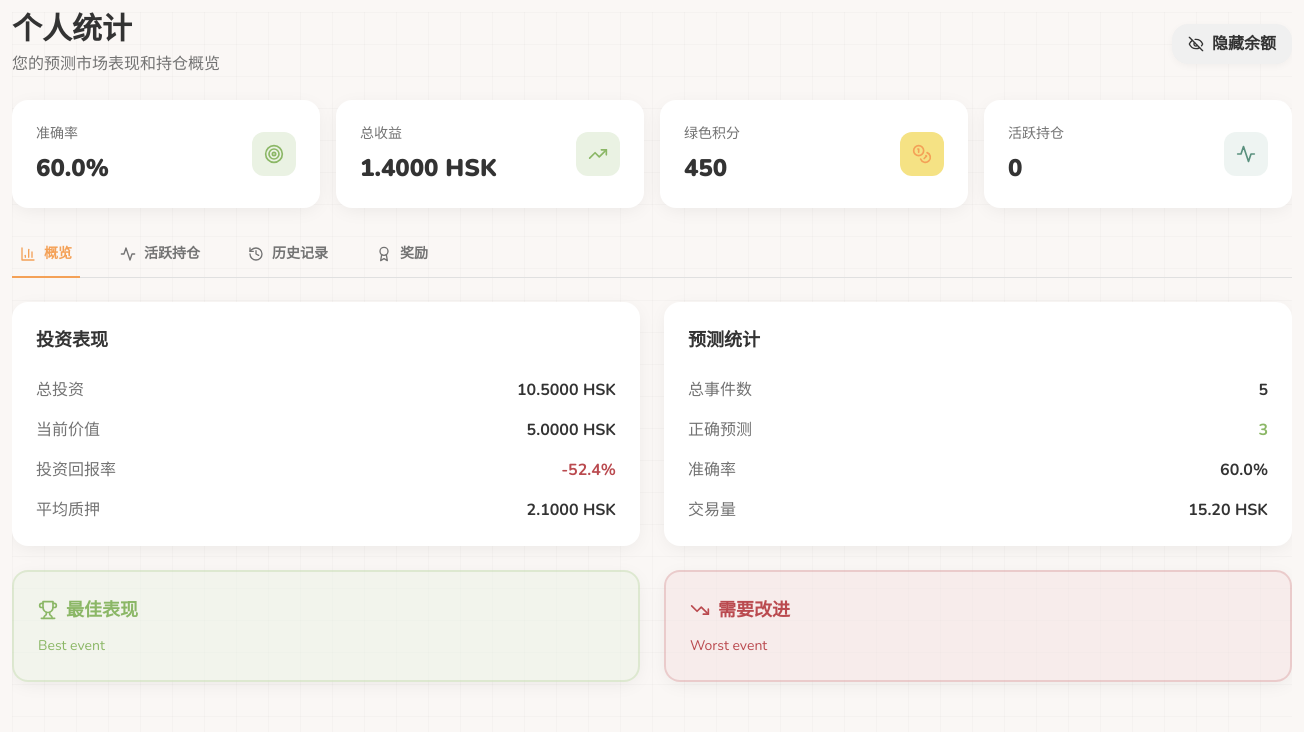
Test: UserStats › shows empty states for tabs with no data
Note: Switch to positions tab
Click the button "活跃持仓" at (160, 255), box [112,232,208,278]
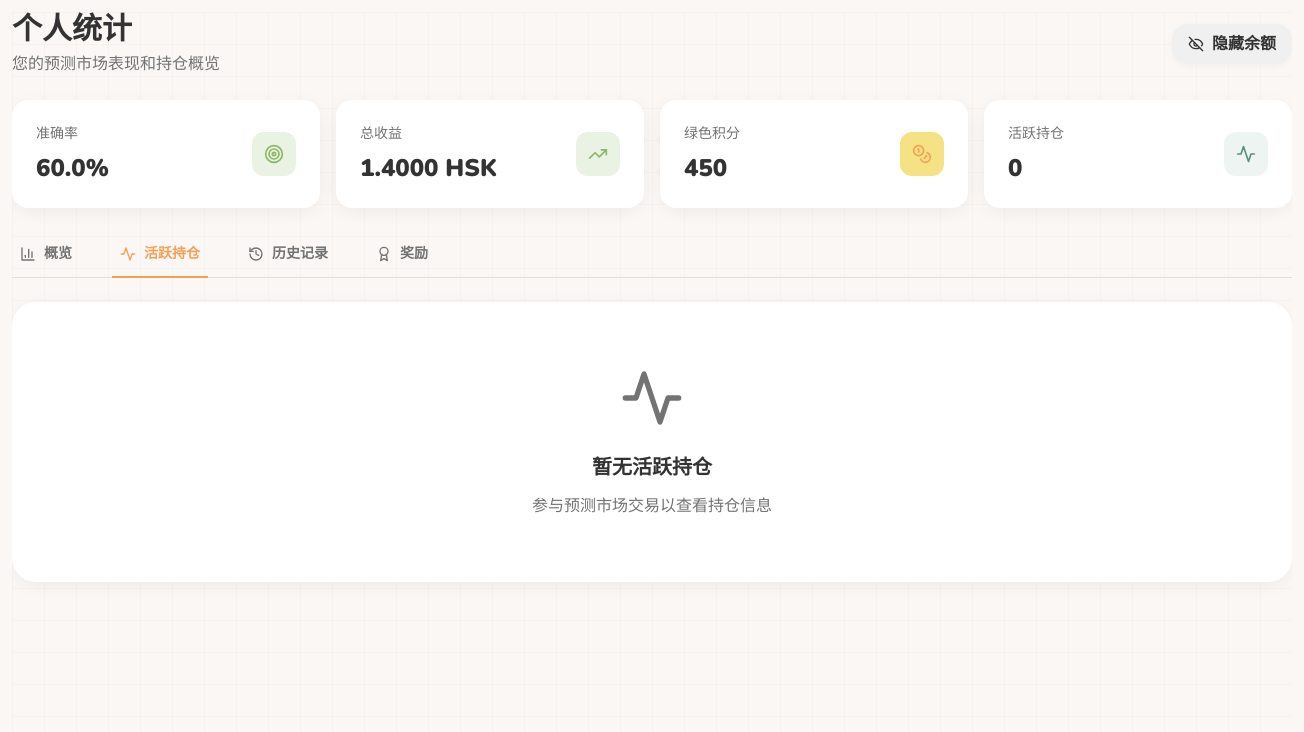
expect the heading "暂无活跃持仓" is shown: met, box [592,454,712,481]
Note: Switch to history tab
Click the button "历史记录" at (288, 255), box [240,232,336,278]
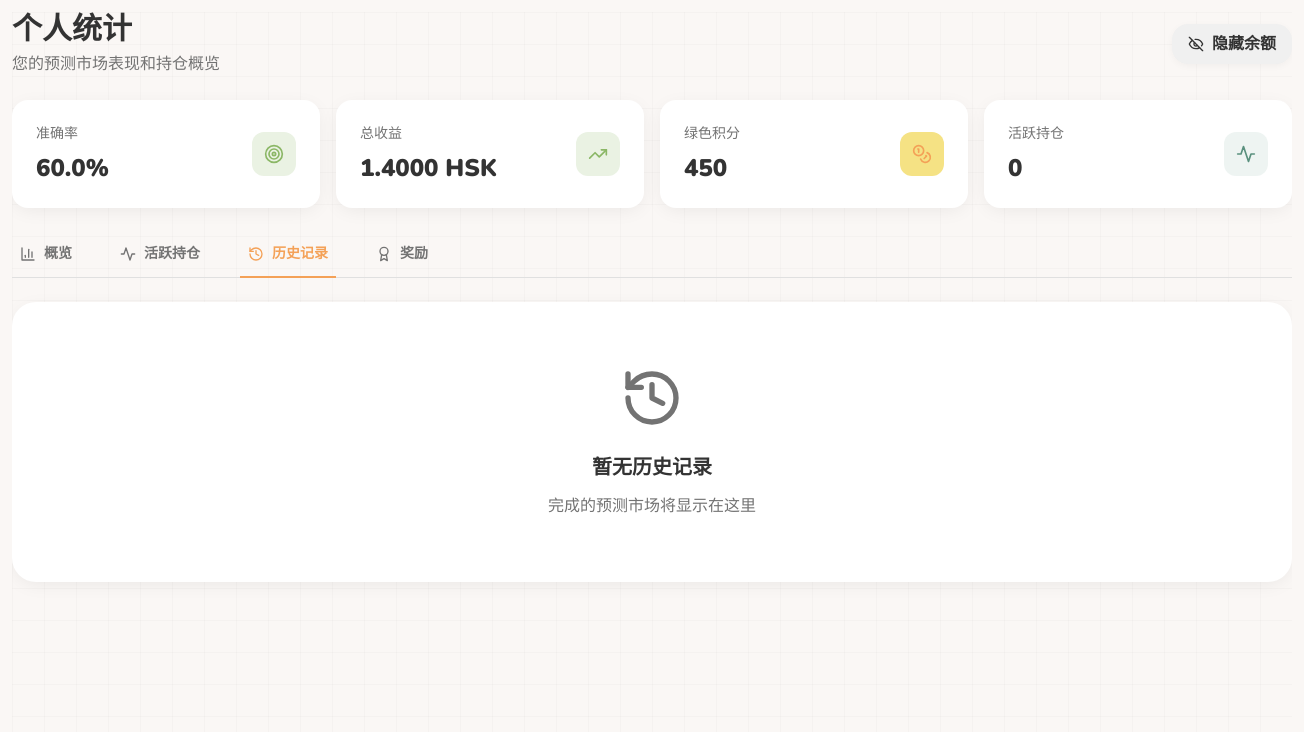
expect the heading "暂无历史记录" is shown: met, box [592,454,712,481]
